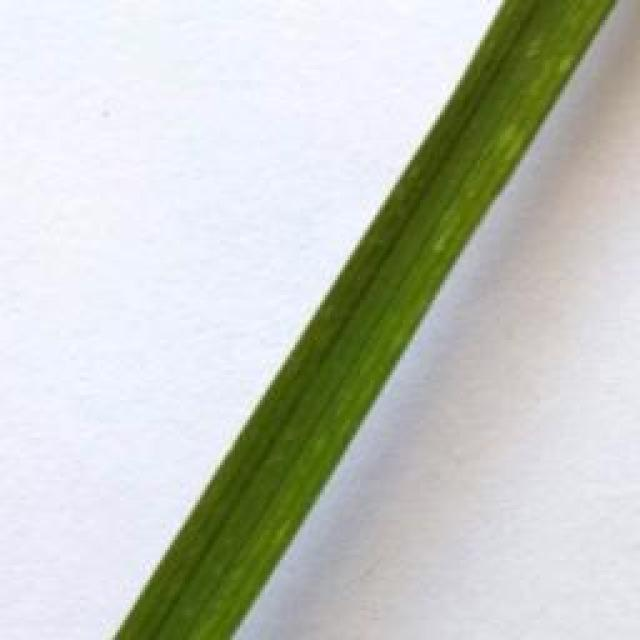Healthy-Plant: (116, 0, 615, 640)
